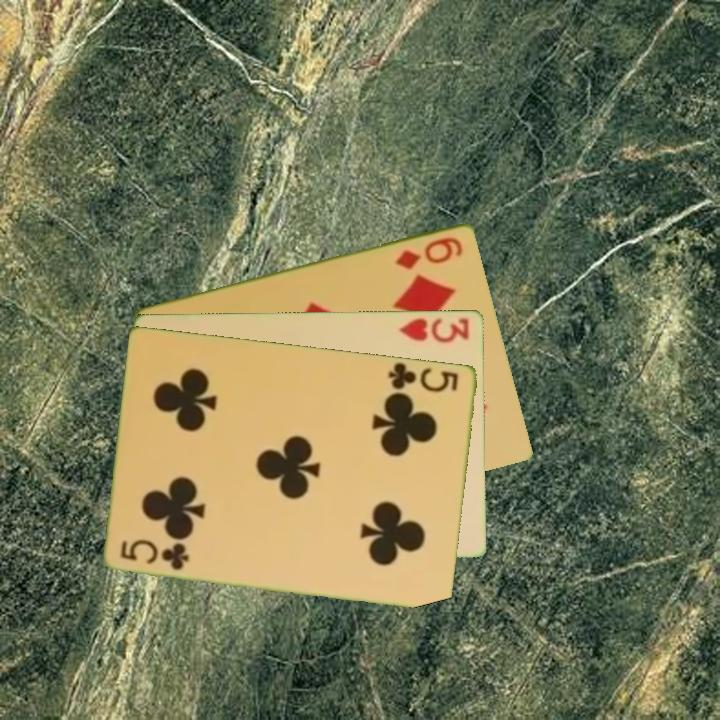3h: (396, 314, 473, 345)
5c: (385, 359, 462, 396), (117, 536, 193, 573)
6d: (392, 233, 466, 272)
